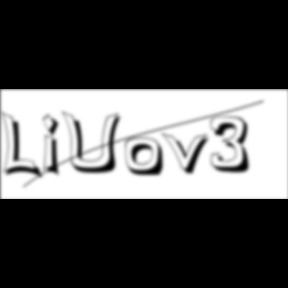3: (211, 116, 257, 176)
L: (1, 110, 45, 182)
U: (62, 110, 126, 176)
i: (43, 112, 67, 180)
o: (125, 137, 167, 179)
v: (162, 131, 216, 177)
